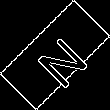N_NW: (23, 23, 87, 87)
